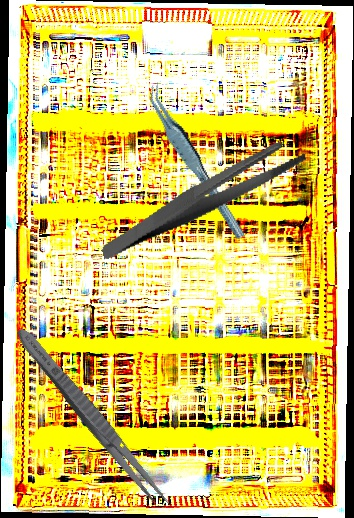Dressing Forceps: (10, 323, 175, 513), (87, 137, 318, 260)
Tissue Forceps: (143, 75, 247, 249)
